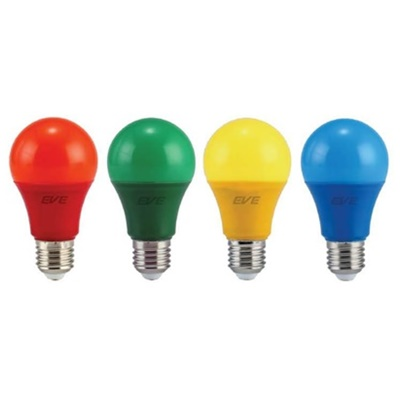Light_bulb: (103, 114, 199, 287), (8, 114, 101, 285), (299, 113, 391, 285), (202, 114, 293, 286)
